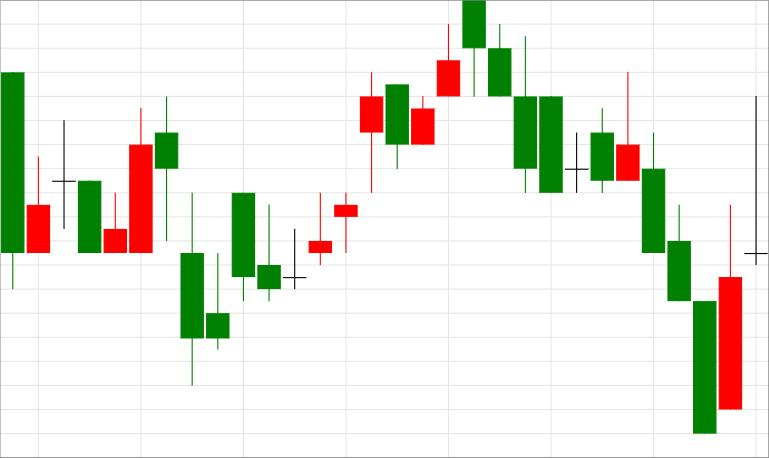hanging_man_fall: (309, 0, 486, 266)
